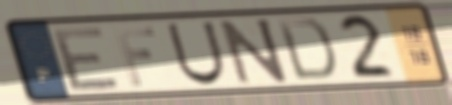2: (337, 11, 400, 82)
D: (273, 16, 339, 83)
E: (50, 24, 124, 94)
F: (111, 24, 159, 88)
N: (216, 16, 292, 87)
U: (164, 20, 230, 88)
